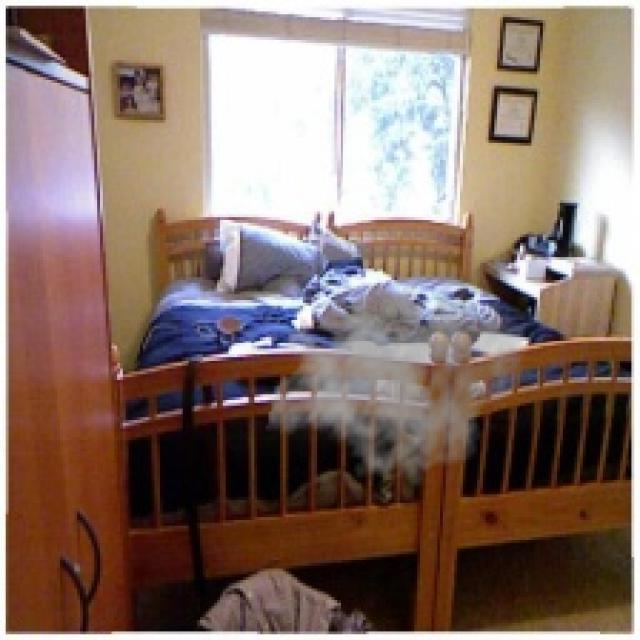Smoke: (266, 268, 528, 488)
